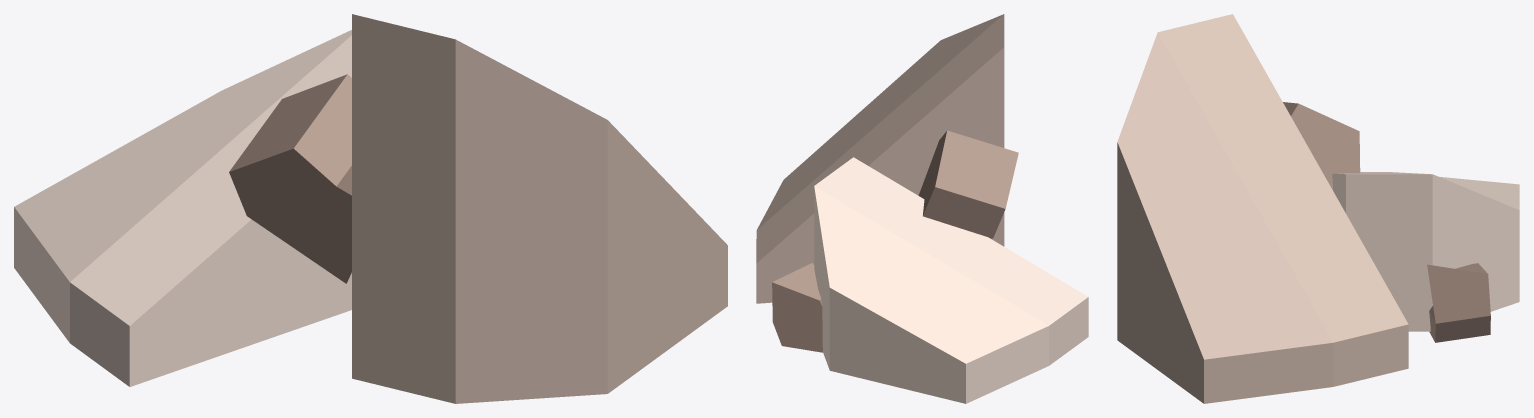
Rendered from rock-type5-03-sand.glb.
3 views of the same model, side by side, from view 1: azimuth 30°, elevation 25°; view 2: azimuth 150°, elevation 25°; view 3: azimuth 270°, elevation 25° (orthographic). The views are drawn at different scales.
Parts seen in each view (by area): view 1: Rock_Type5_03_mesh; view 2: Rock_Type5_03_mesh; view 3: Rock_Type5_03_mesh.
Part boxes in pixels (x1,y1,x2,y2): Rock_Type5_03_mesh: (14,14,727,403); Rock_Type5_03_mesh: (756,14,1088,403); Rock_Type5_03_mesh: (1117,14,1519,403).
Size of the model in its own units: 2.17 by 1.44 by 1.96.
1 material, 1 textured.
